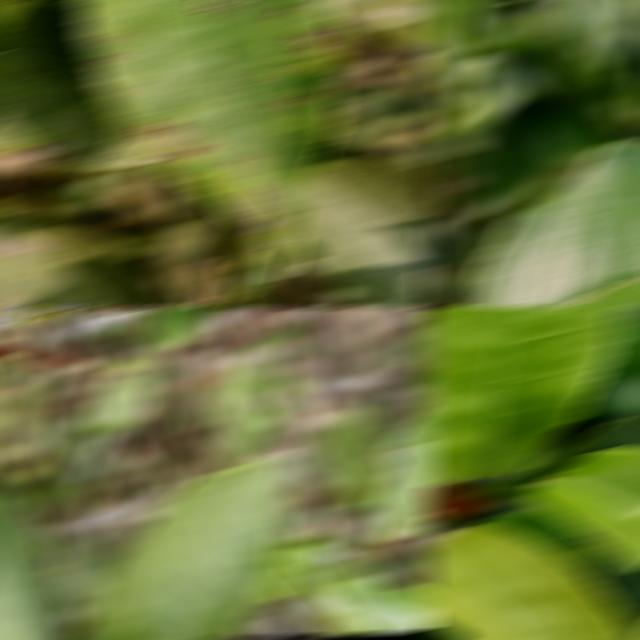Leaf: (73, 2, 342, 277), (73, 456, 295, 638), (422, 308, 620, 478), (460, 140, 640, 306), (0, 2, 154, 166), (422, 526, 640, 638), (290, 140, 434, 306), (0, 200, 182, 306), (525, 448, 640, 567), (208, 324, 300, 464), (466, 99, 557, 217), (0, 484, 69, 638), (311, 409, 392, 505), (582, 308, 640, 412), (323, 577, 434, 631), (322, 2, 434, 49), (576, 2, 640, 83), (57, 536, 121, 615), (87, 358, 156, 431), (382, 408, 434, 495), (370, 473, 431, 539), (143, 308, 211, 346), (430, 2, 481, 48), (529, 2, 585, 35)
